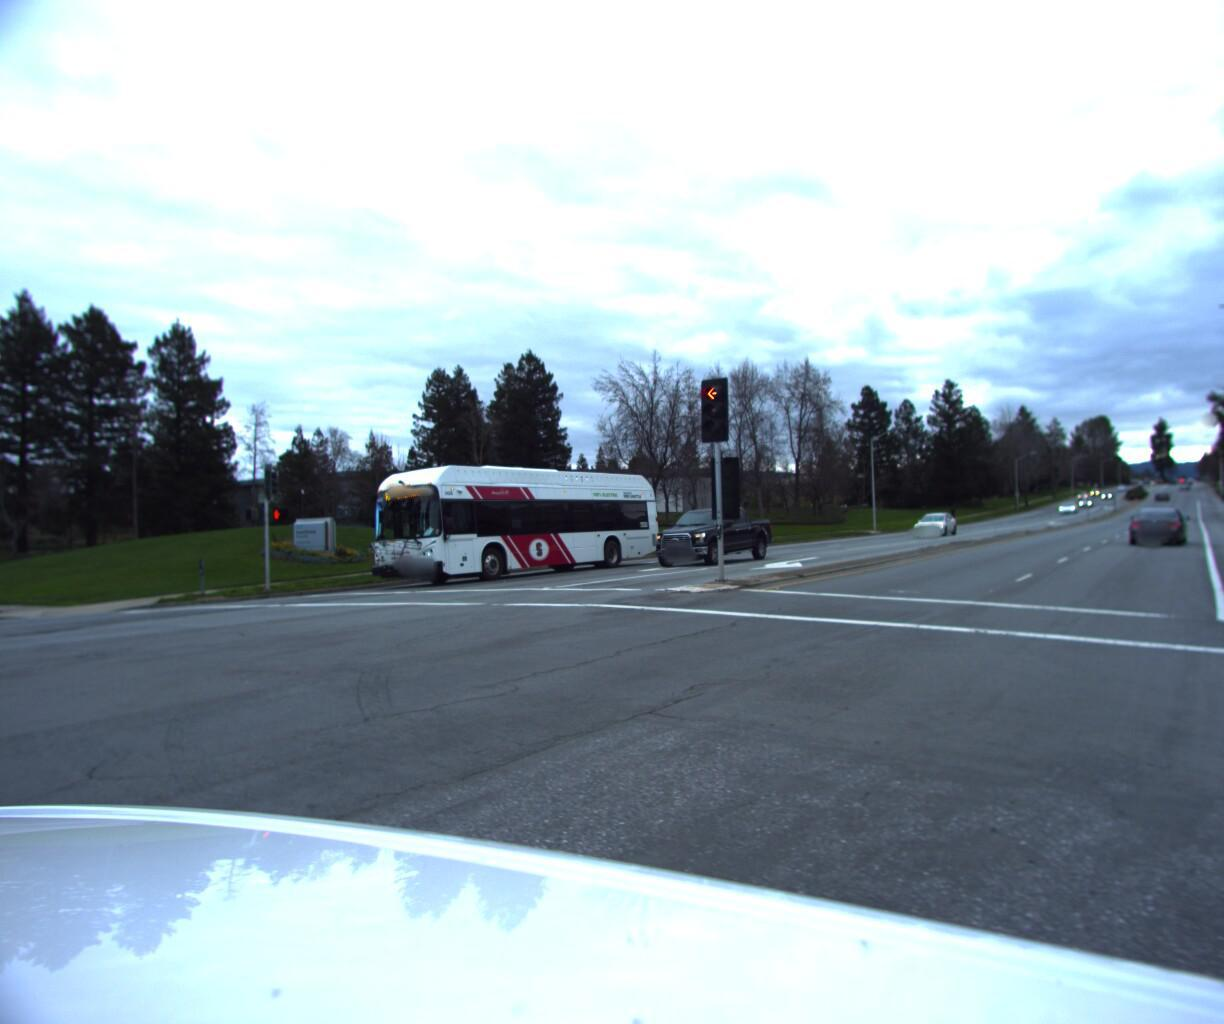bus: (339, 455, 668, 589)
car: (647, 507, 780, 567), (1121, 504, 1183, 546), (912, 510, 962, 539)
